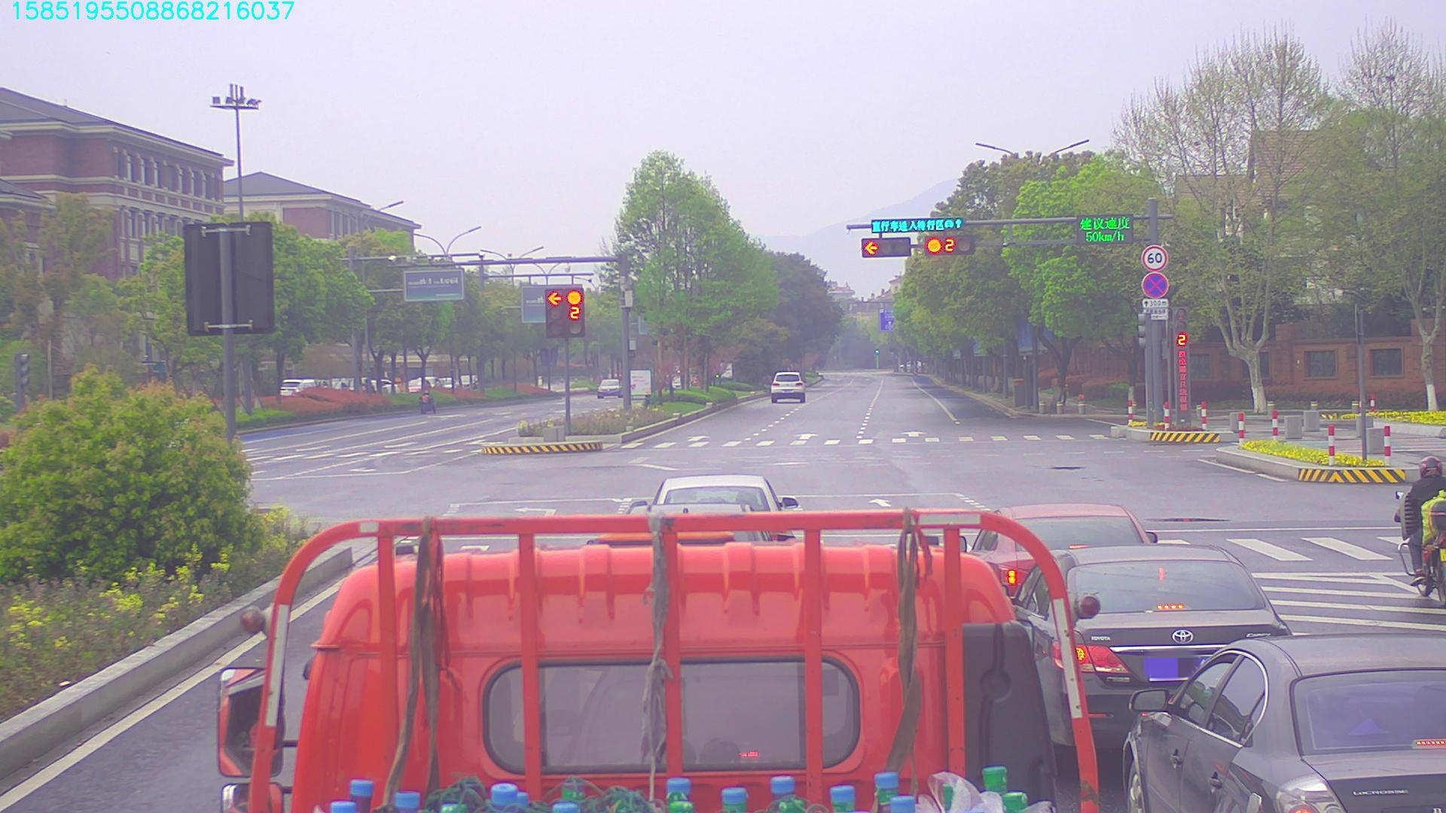red: (921, 237, 966, 251), (862, 238, 904, 253)
wait_on: (866, 217, 966, 231)
